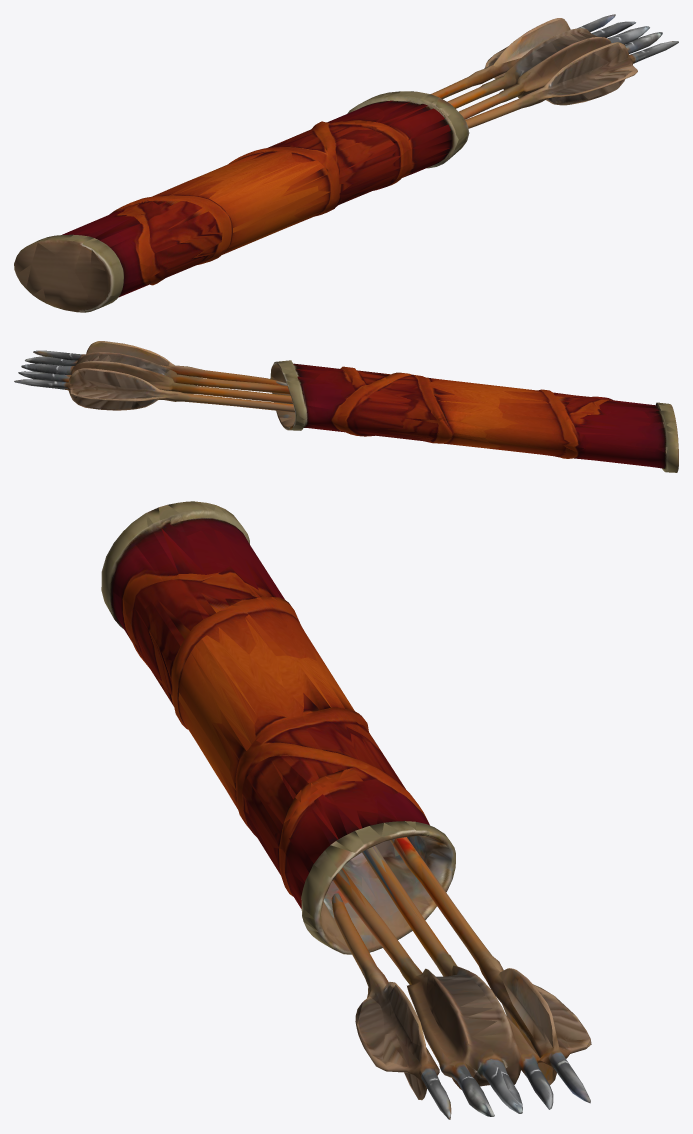
Rendered from quiver.glb.
3 views of the same model, one above another, from view 1: azimuth 30°, elevation 25°; view 2: azimuth 150°, elevation 25°; view 3: azimuth 270°, elevation 25° (orthographic). The views are drawn at different scales.
Visible parts, largest first — view 1: tripo_node_c5edc066; view 2: tripo_node_c5edc066; view 3: tripo_node_c5edc066.
Boxes of the visible parts, <box> form: tripo_node_c5edc066: <box>14,14,678,312</box>; tripo_node_c5edc066: <box>14,341,678,472</box>; tripo_node_c5edc066: <box>101,501,591,1119</box>.
Bounding box in the file's own units: 0.9907 × 0.0925 × 0.3542.
1 material, 1 textured.
